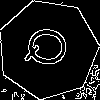Q: (23, 24, 78, 71)
